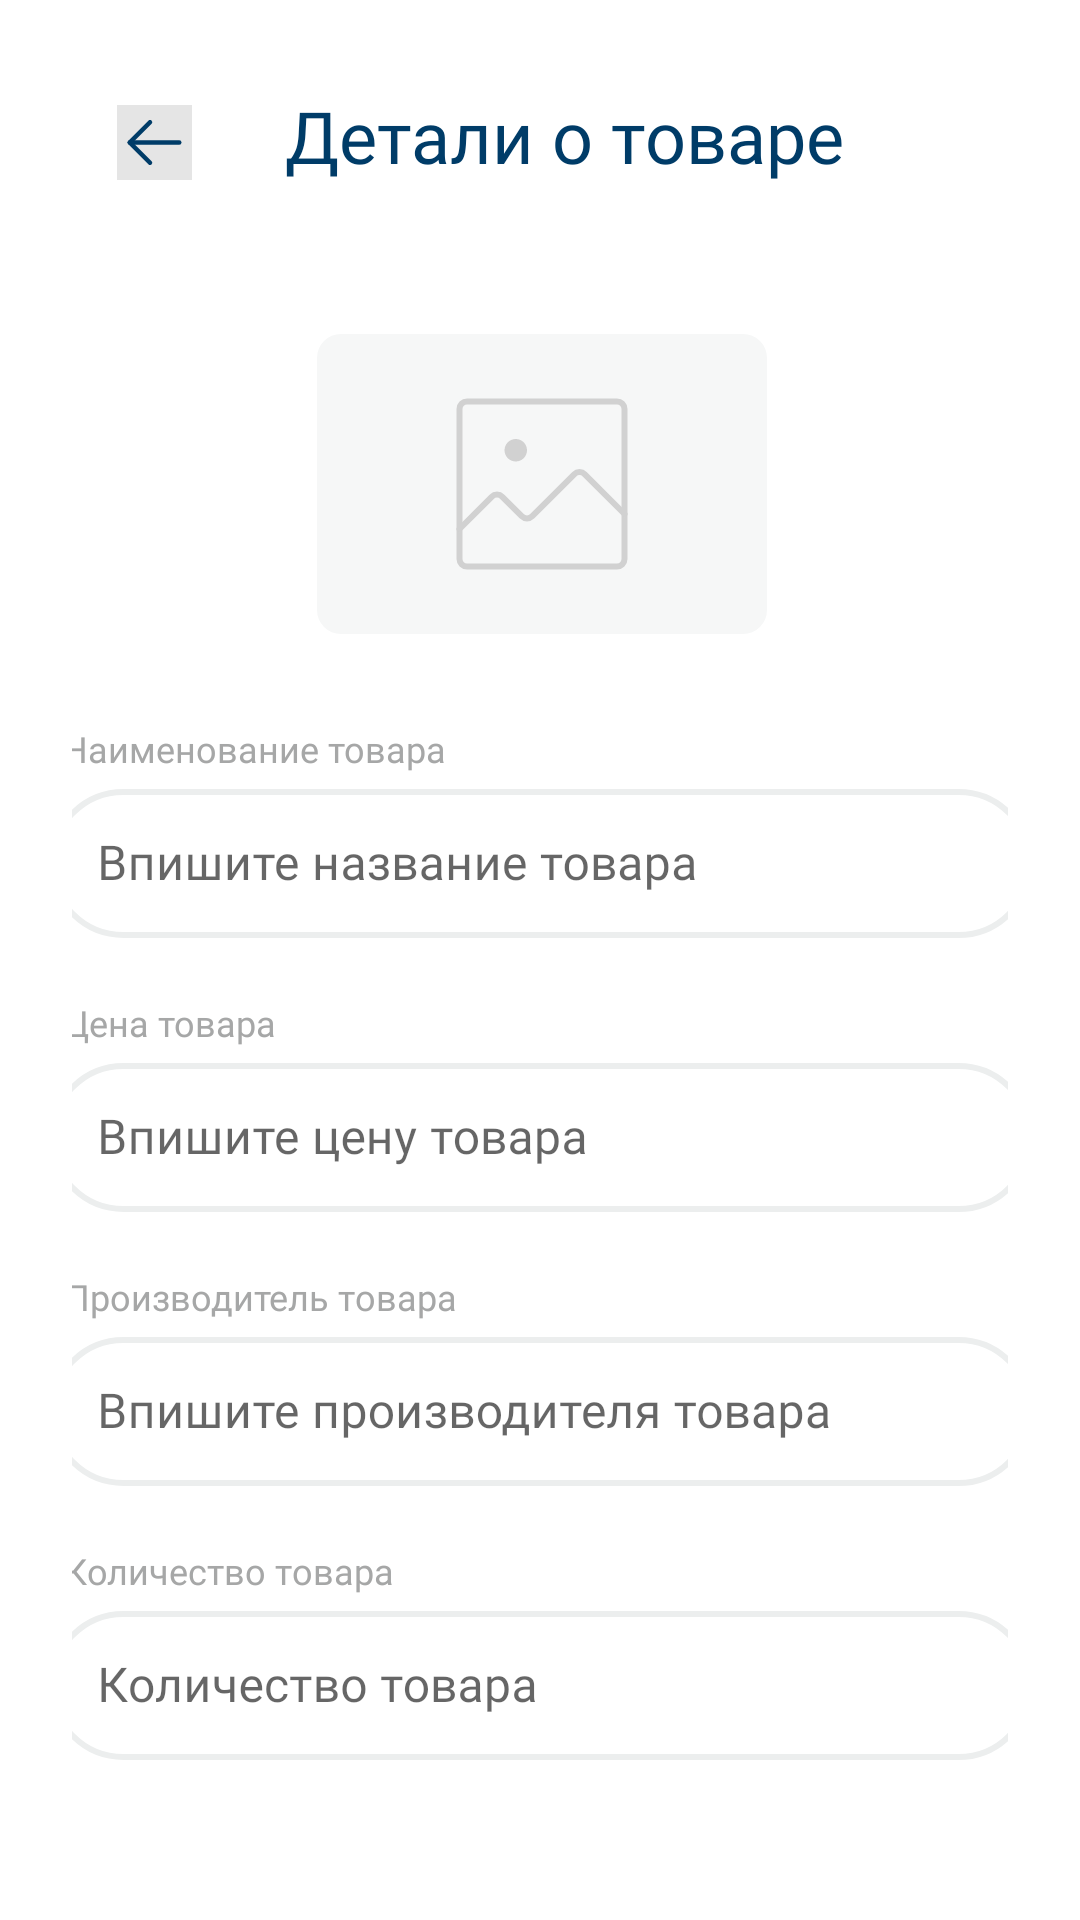

Screen size 1080px×1920px. Icon name, then its center in pixels as [x,y]:
arrowleft: [154,142]
